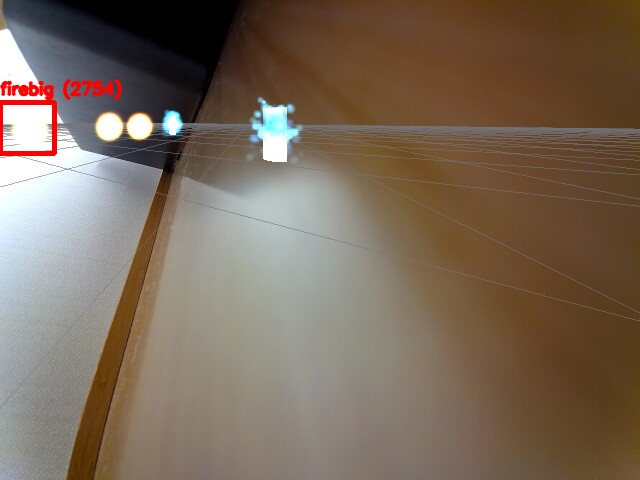firebig: (0, 102, 54, 153)
